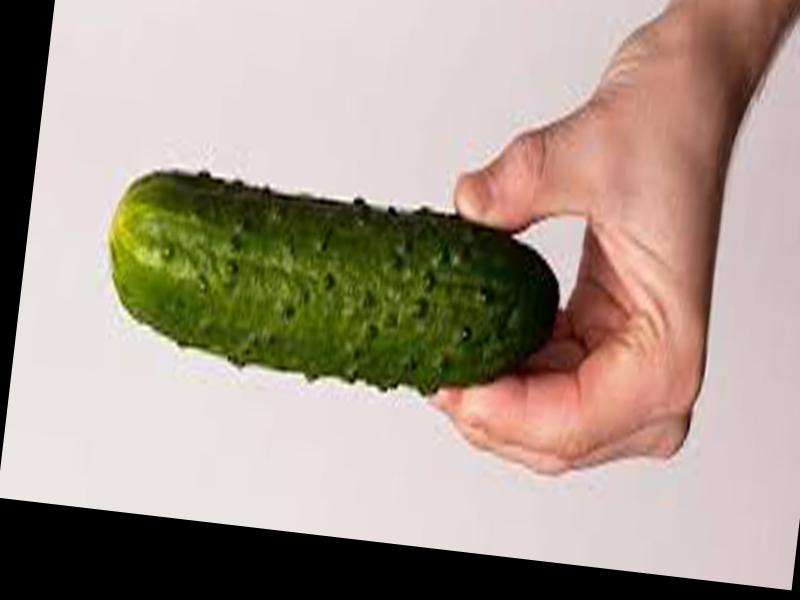Cucumber: (99, 179, 567, 406)
